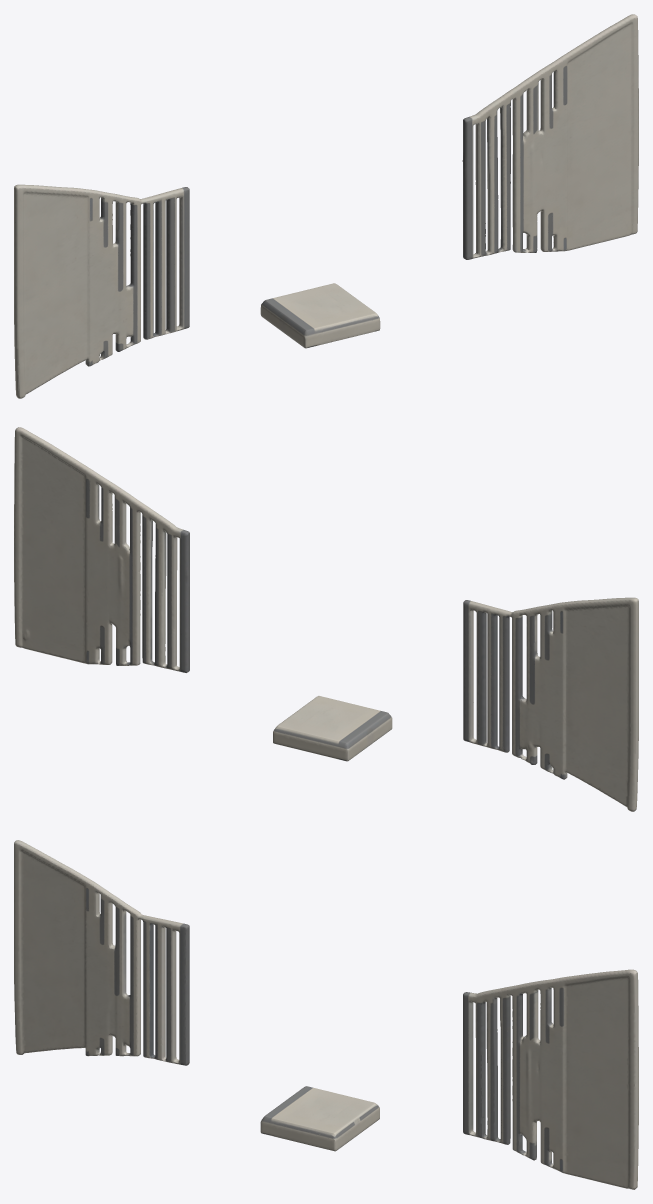
The model's file is stego_plate.fbx.
The picture shows the model from 3 angles, top to bottom: view 1: azimuth 30°, elevation 25°; view 2: azimuth 150°, elevation 25°; view 3: azimuth 330°, elevation 25°; orthographic projection.
Parts seen in each view (by area): view 1: tripo_node_796a406e-3bed-4bac-892e-e3663a3fc324; view 2: tripo_node_796a406e-3bed-4bac-892e-e3663a3fc324; view 3: tripo_node_796a406e-3bed-4bac-892e-e3663a3fc324.
Boxes of the visible parts, <box> form: tripo_node_796a406e-3bed-4bac-892e-e3663a3fc324: <box>14,14,638,398</box>; tripo_node_796a406e-3bed-4bac-892e-e3663a3fc324: <box>14,427,638,811</box>; tripo_node_796a406e-3bed-4bac-892e-e3663a3fc324: <box>14,840,638,1189</box>.
Size of the model in its own units: 1 by 0.3579 by 0.1253.
Materials: 1 (1 with a texture image).
